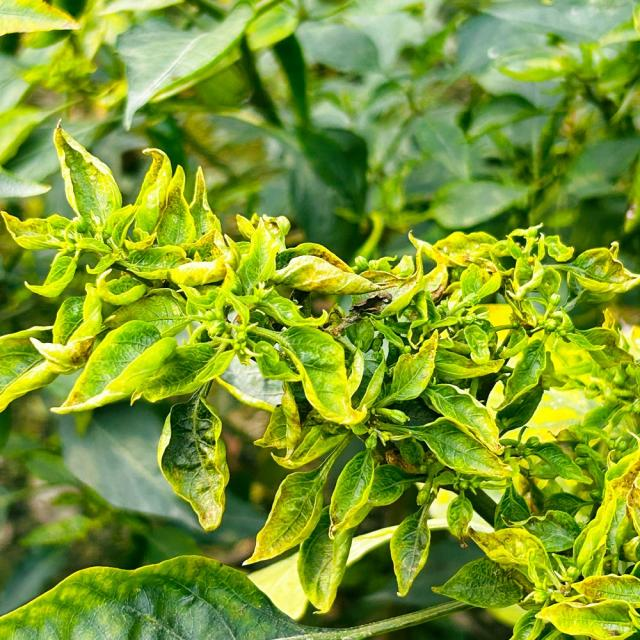Chilli_Leaf_Curl: (1, 118, 638, 636), (0, 553, 307, 639), (156, 391, 230, 532)
